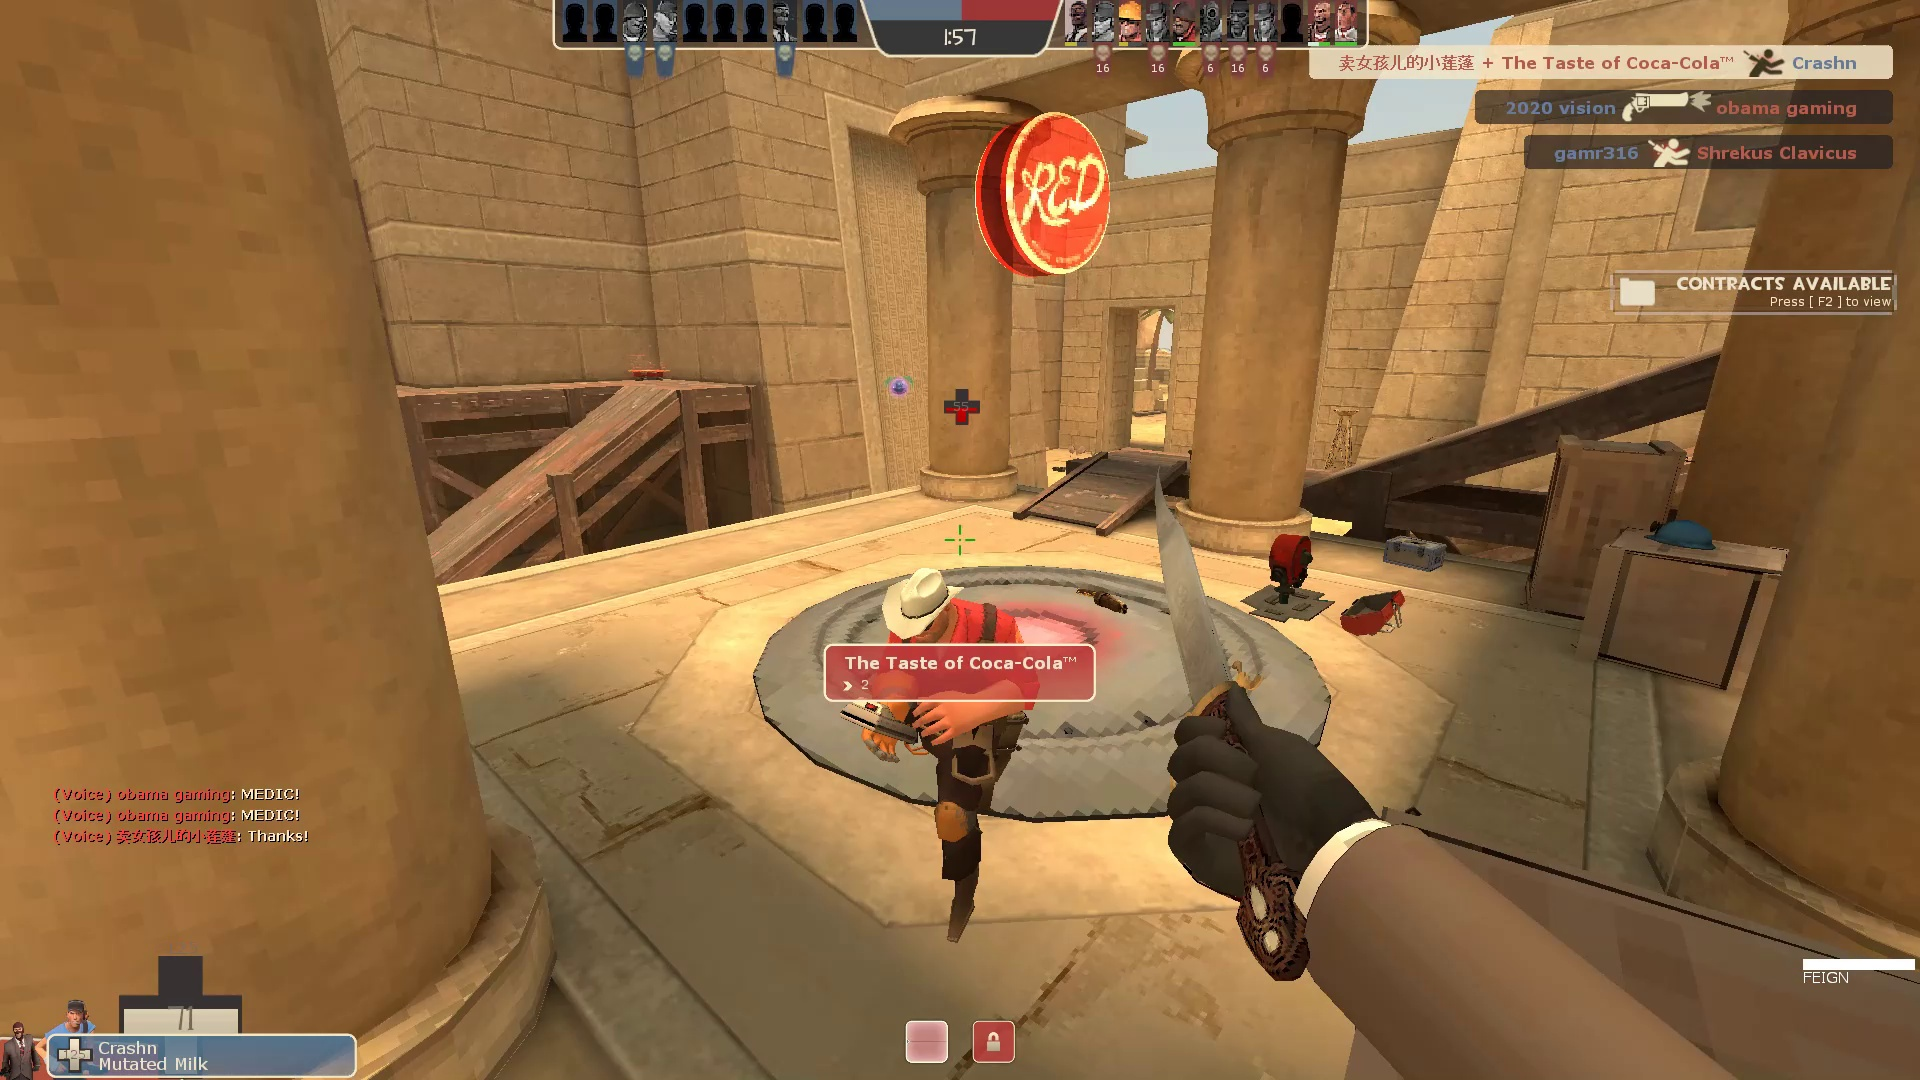red_engineer: (822, 560, 1059, 961)
red_sentry_building: (1228, 526, 1411, 645)
red_teleporter_exit: (621, 349, 676, 384)
